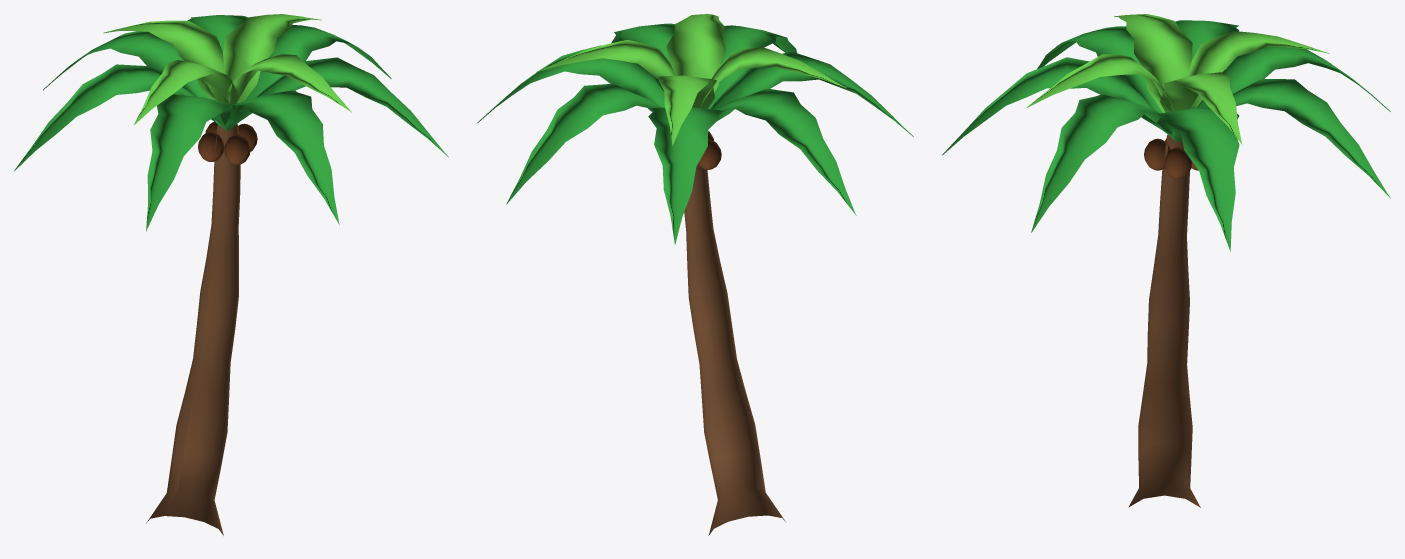
Rendered from palm_tree.glb.
The picture shows the model from 3 angles, left to right: view 1: azimuth 30°, elevation 25°; view 2: azimuth 150°, elevation 25°; view 3: azimuth 270°, elevation 25°; orthographic projection. The views are drawn at different scales.
Parts seen in each view (by area): view 1: PalmTree; view 2: PalmTree; view 3: PalmTree.
Part boxes in pixels (box(x1,y1,x2,y2)): PalmTree: box(14, 14, 448, 535); PalmTree: box(477, 14, 913, 535); PalmTree: box(942, 14, 1390, 507).
Bounding box in the file's own units: 5.9 × 7.11 × 5.76.
